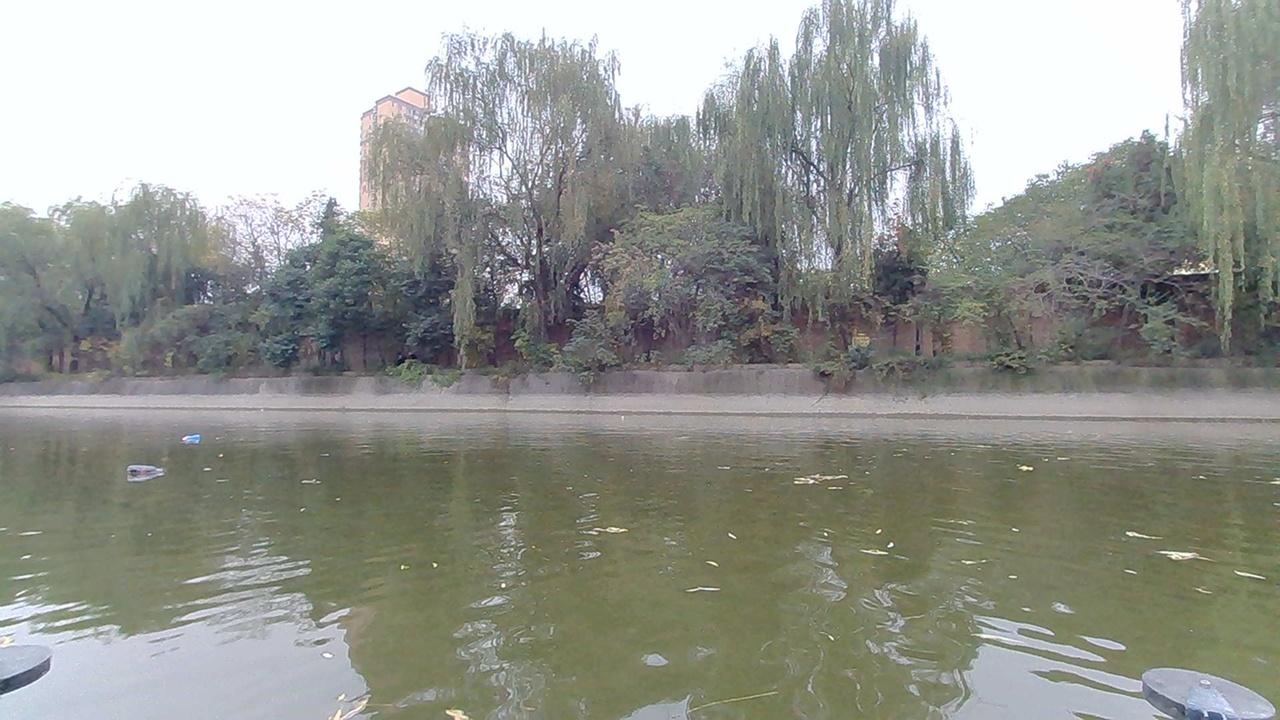bottle: (124, 456, 168, 484), (173, 426, 206, 450)
